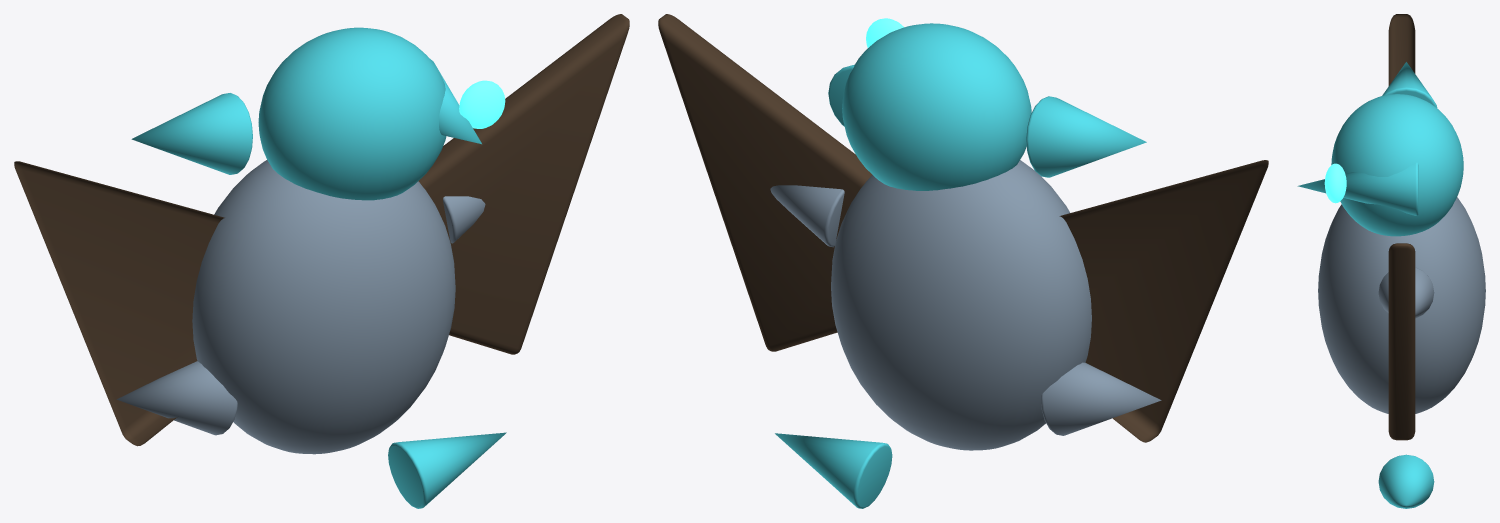
The model's file is avian_v3.glb.
The picture shows the model from 3 angles, left to right: view 1: azimuth 30°, elevation 25°; view 2: azimuth 150°, elevation 25°; view 3: azimuth 270°, elevation 25°; orthographic projection. The views are drawn at different scales.
Parts seen in each view (by area): view 1: BODY_PRIMARY, WING_R_SECONDARY, WING_L_SECONDARY, HEAD_ACCENT, VARIANT_SPINE_ACCENT.001, VARIANT_SPINE_PRIMARY, VARIANT_SPINE_ACCENT, EYE_EMISSIVE, VARIANT_SPINE_PRIMARY.001, BEAK_ACCENT; view 2: BODY_PRIMARY, WING_R_SECONDARY, WING_L_SECONDARY, HEAD_ACCENT, VARIANT_SPINE_ACCENT.001, VARIANT_SPINE_PRIMARY, VARIANT_SPINE_ACCENT, VARIANT_SPINE_PRIMARY.001, BEAK_ACCENT; view 3: BODY_PRIMARY, HEAD_ACCENT, WING_R_SECONDARY, BEAK_ACCENT, VARIANT_SPINE_ACCENT, WING_L_SECONDARY, VARIANT_SPINE_PRIMARY.001, VARIANT_SPINE_ACCENT.001, EYE_EMISSIVE.
Boxes of the visible parts, <box> form: BODY_PRIMARY: <box>192,160,455,454</box>; WING_R_SECONDARY: <box>418,14,629,354</box>; WING_L_SECONDARY: <box>14,161,224,446</box>; HEAD_ACCENT: <box>258,27,446,200</box>; VARIANT_SPINE_ACCENT.001: <box>131,93,252,174</box>; VARIANT_SPINE_PRIMARY: <box>116,361,237,435</box>; VARIANT_SPINE_ACCENT: <box>388,432,506,508</box>; EYE_EMISSIVE: <box>459,80,505,128</box>; VARIANT_SPINE_PRIMARY.001: <box>443,196,485,243</box>; BEAK_ACCENT: <box>429,58,481,144</box>; BODY_PRIMARY: <box>831,160,1091,450</box>; WING_R_SECONDARY: <box>658,14,872,351</box>; WING_L_SECONDARY: <box>1059,160,1268,442</box>; HEAD_ACCENT: <box>842,23,1031,190</box>; VARIANT_SPINE_ACCENT.001: <box>1026,96,1146,177</box>; VARIANT_SPINE_PRIMARY: <box>1041,362,1161,435</box>; VARIANT_SPINE_ACCENT: <box>775,433,892,508</box>; VARIANT_SPINE_PRIMARY.001: <box>770,185,844,247</box>; BEAK_ACCENT: <box>828,64,854,126</box>; BODY_PRIMARY: <box>1318,197,1485,413</box>; HEAD_ACCENT: <box>1331,94,1463,236</box>; WING_R_SECONDARY: <box>1388,243,1415,440</box>; BEAK_ACCENT: <box>1297,162,1418,215</box>; VARIANT_SPINE_ACCENT: <box>1378,454,1434,508</box>; WING_L_SECONDARY: <box>1388,14,1415,85</box>; VARIANT_SPINE_PRIMARY.001: <box>1378,267,1434,318</box>; VARIANT_SPINE_ACCENT.001: <box>1382,62,1437,107</box>; EYE_EMISSIVE: <box>1324,163,1346,203</box>.
Size of the model in its own units: 2.48 by 1.91 by 0.855.
